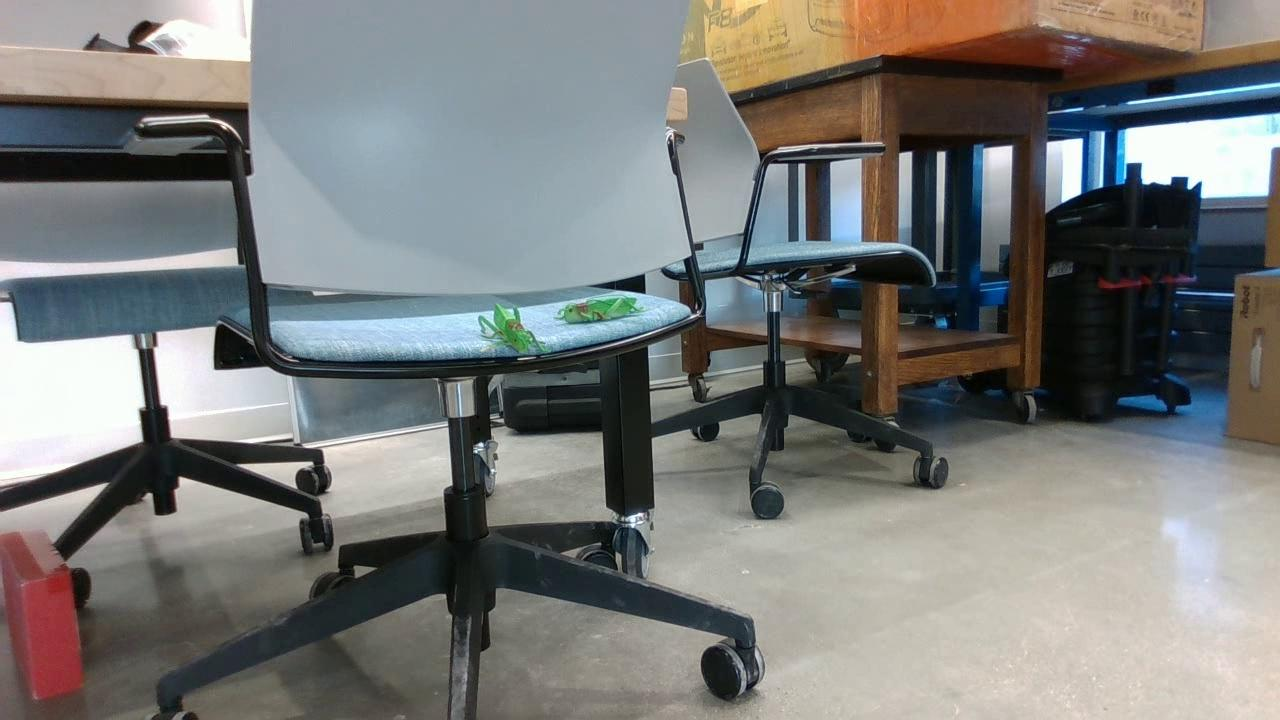grasshopper: (481, 301, 549, 355), (562, 299, 649, 323)
